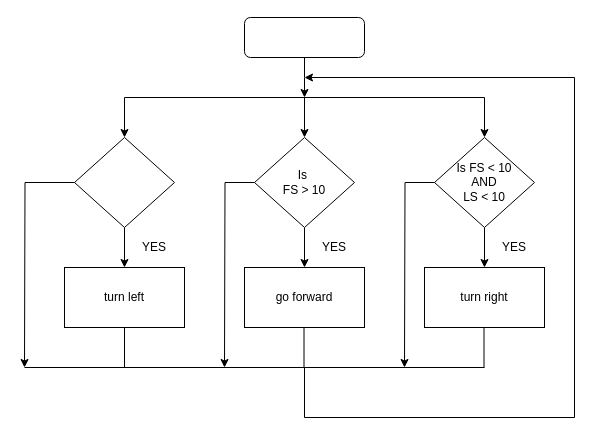
This 600x436 diagram has some shape labels left out. Here are the shapes that lost their labels. From the top down, the centre of each, then its label:
At (x=304, y=37): "START".
At (x=124, y=182): "Is FS < 10 AND RS < 10".
